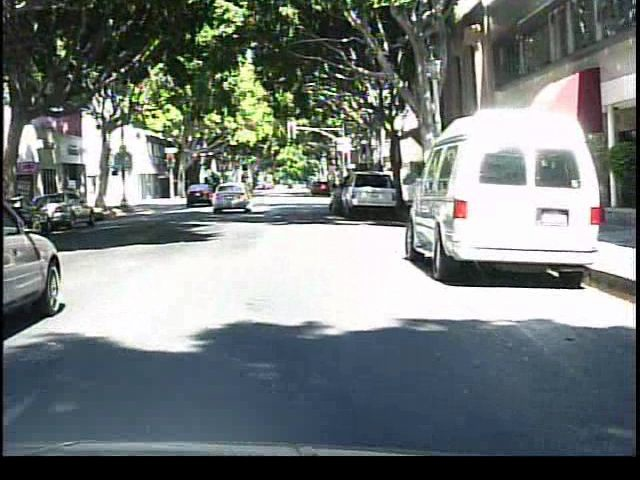person: (225, 171, 247, 206)
